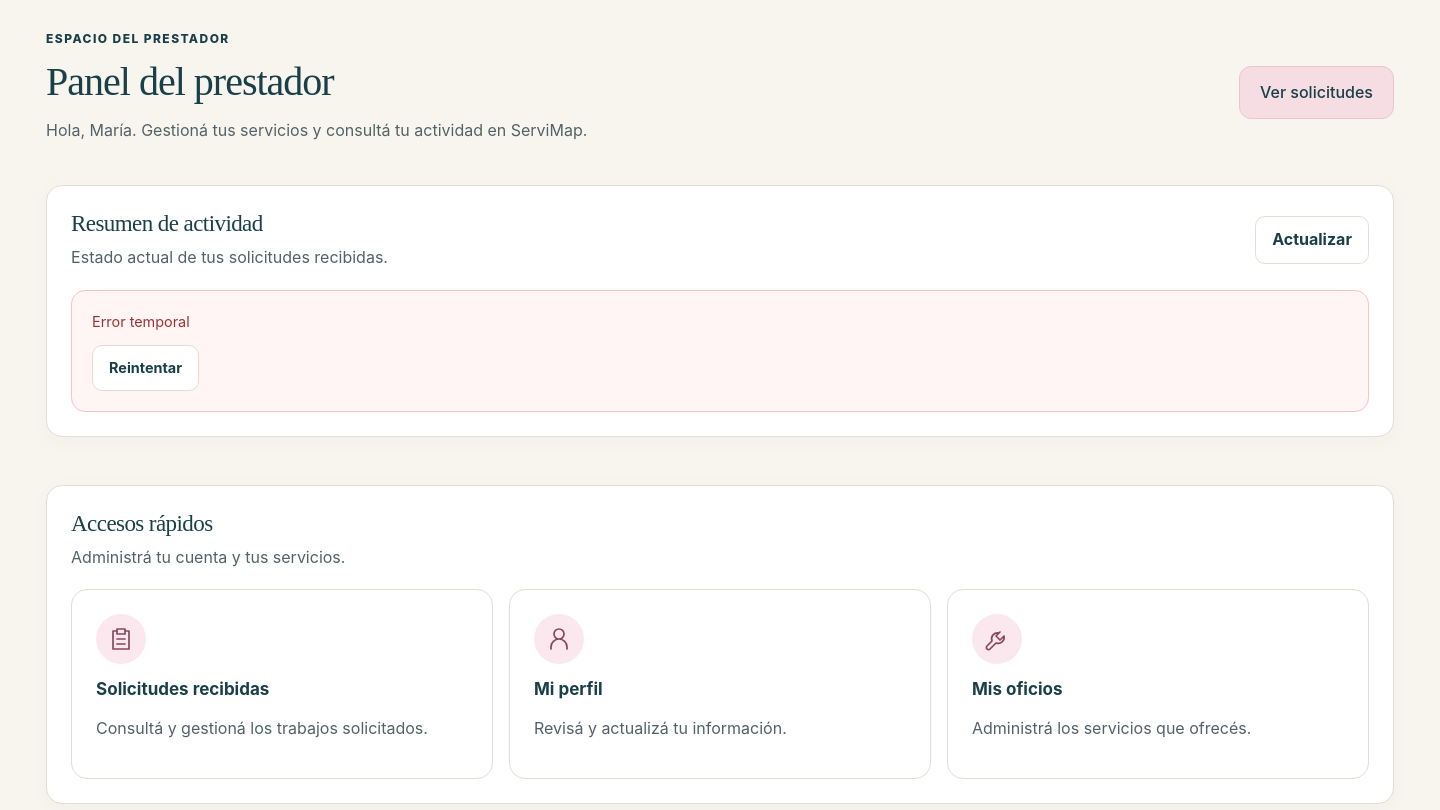
Test: F-19 - Panel del prestador › permite reintentar después de un error
This screenshot has width=1440, height=810.
What coordinates should you click on to do the following:
click the button "Reintentar"
I would click on:
 (146, 368)
Its box is [92,345,199,391].
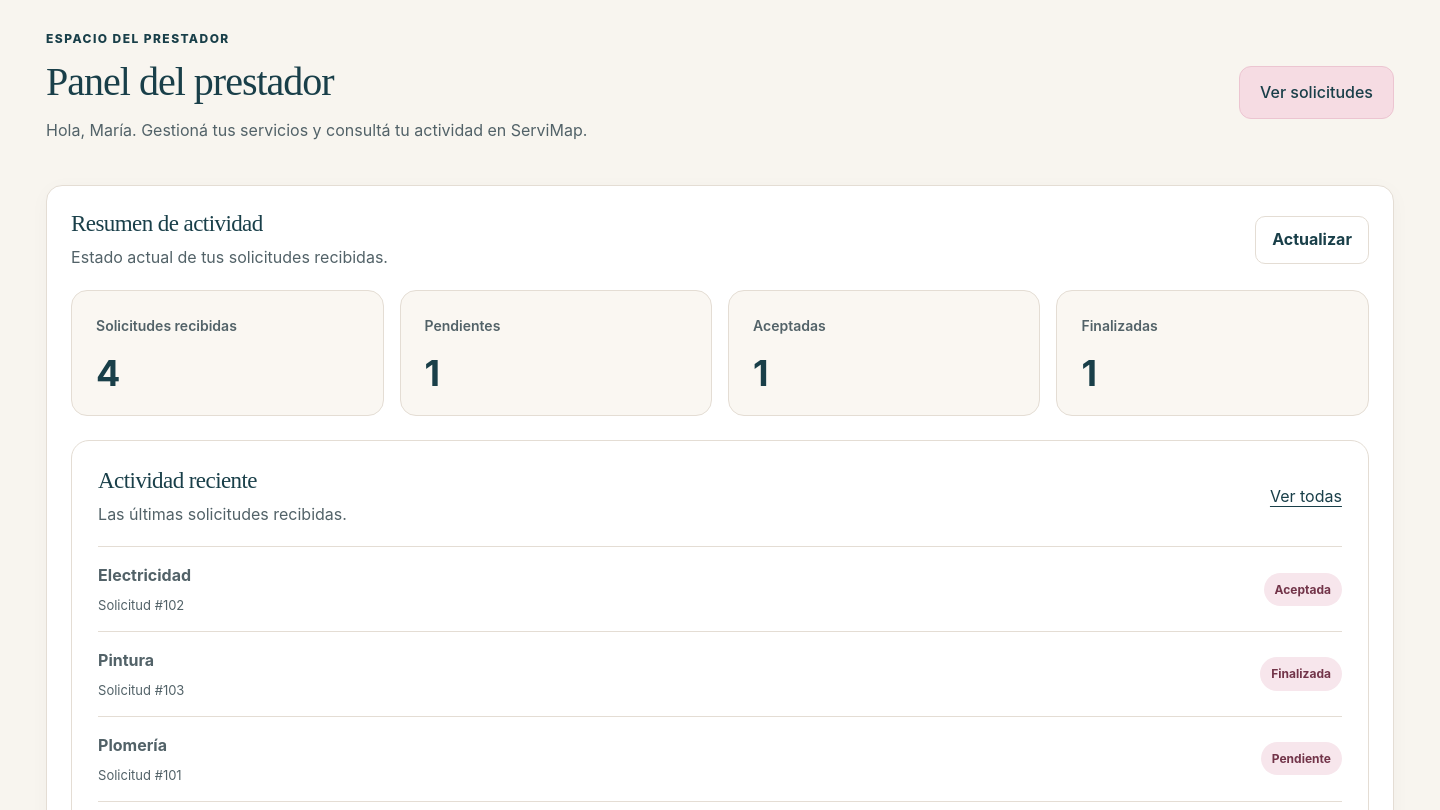
Expected: the text "Plomería" is shown, [98,735,167,755]
